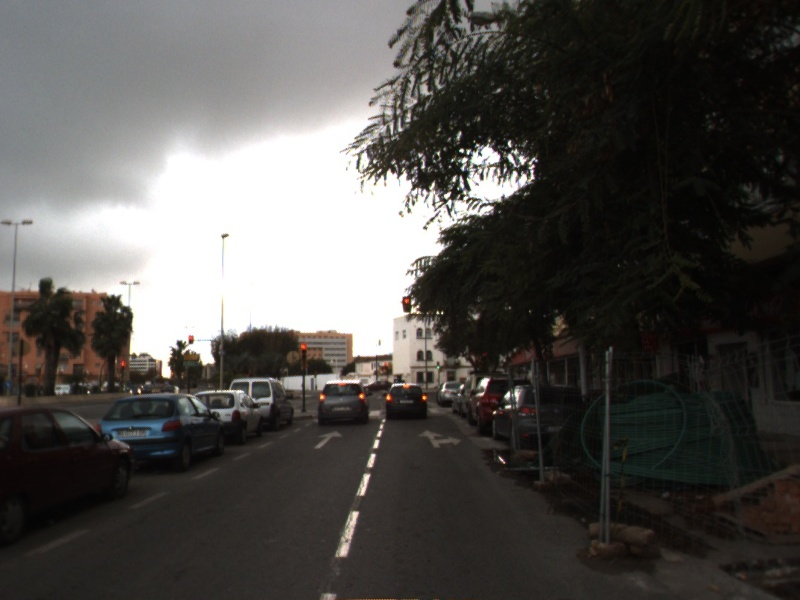STRAIGHT: (312, 429, 344, 450)
STRAIGHT_RIGHT: (416, 428, 463, 449)
